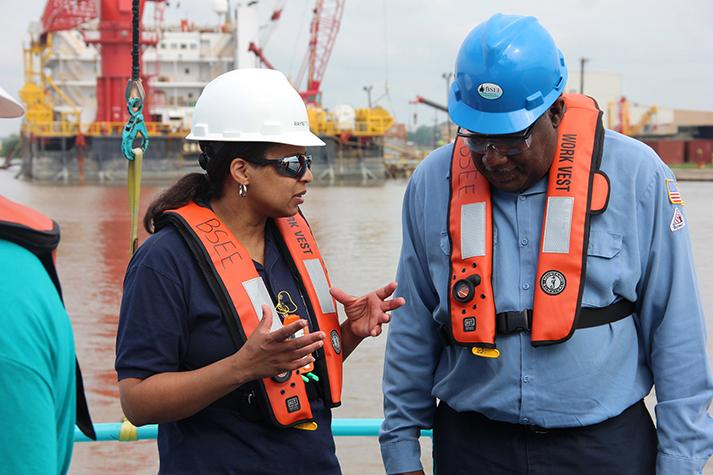helmet: (449, 14, 568, 135), (189, 68, 328, 152)
